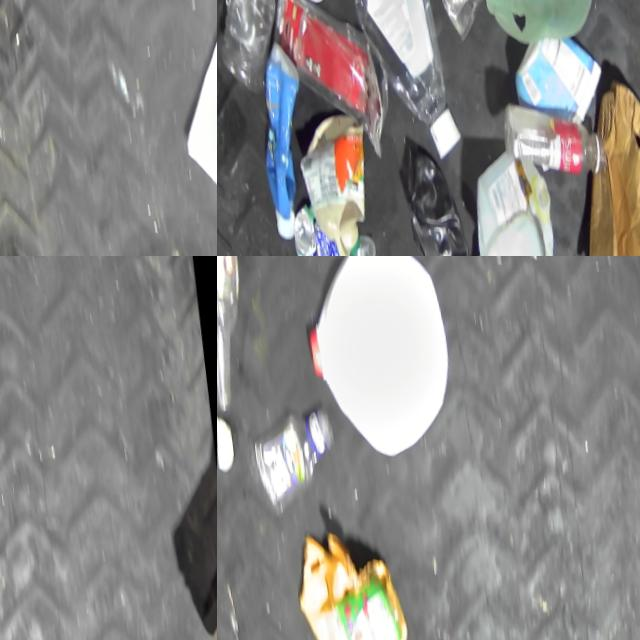can: (286, 191, 354, 256), (425, 0, 496, 41)
milk_jug: (292, 256, 461, 469), (464, 135, 564, 256)
plastic_bottle: (242, 398, 344, 521), (217, 0, 293, 100), (217, 256, 260, 415)
